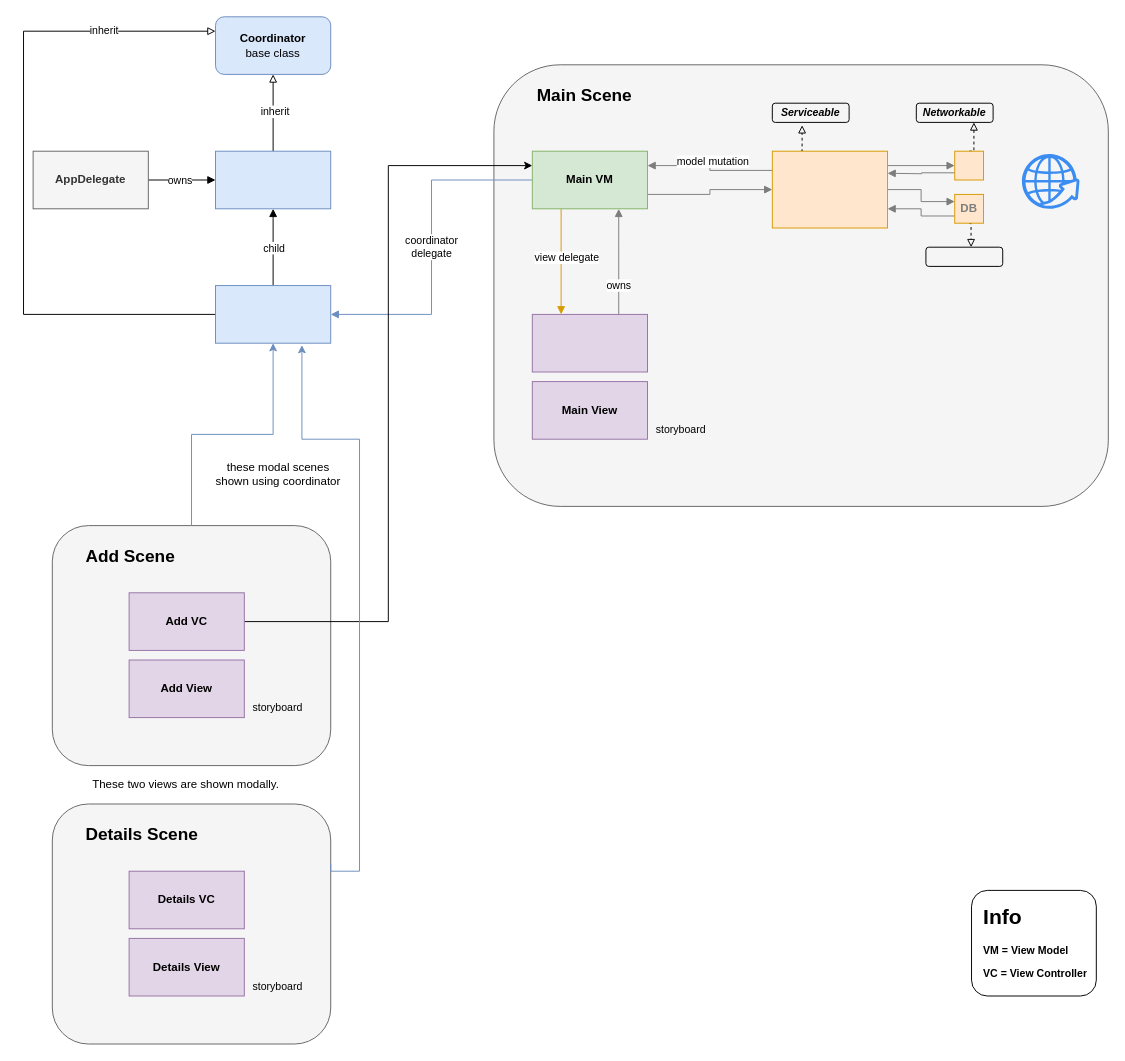
Some shapes in this 1125 by 1061 pixel diagram are drawn without their labels. The shapes that lost their labels are listed below. From the top down, each one's centre as x and y in pixels, then its label:
pixel 273 179: AppCoordinator
pixel 969 165: API
pixel 829 189: Services
pixel 964 256: Storage
pixel 273 314: Main Coordinator
pixel 589 342: Main VC
